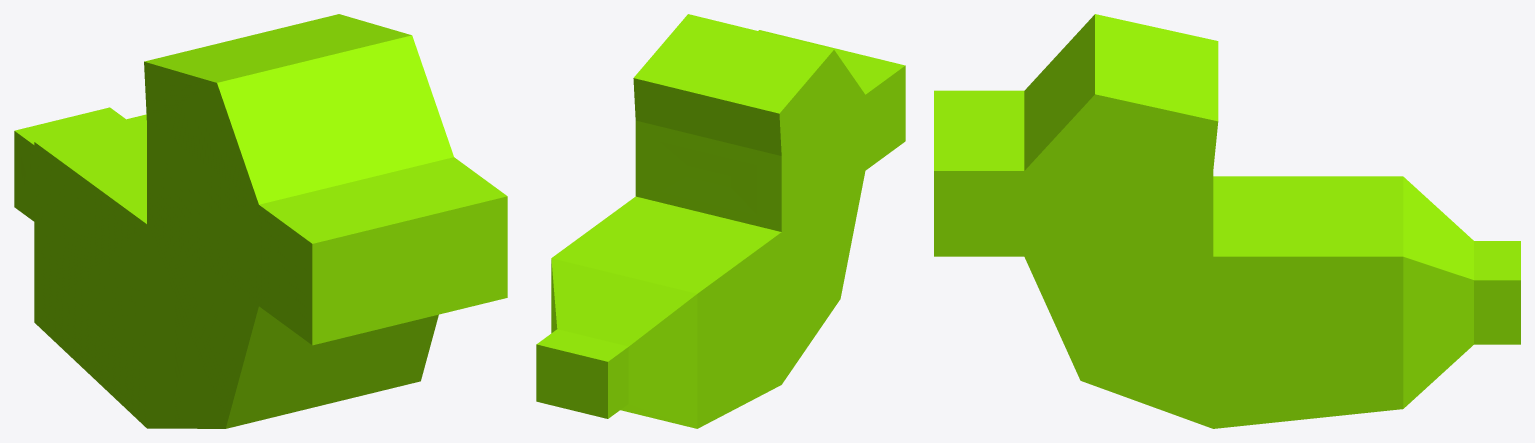
Rendered from torikariS.FBX.
3 renders of one model, left to right at view 1: azimuth 30°, elevation 25°; view 2: azimuth 150°, elevation 25°; view 3: azimuth 270°, elevation 25°, orthographic. The views are drawn at different scales.
Visible parts, largest first — view 1: Box001; view 2: Box001; view 3: Box001.
Boxes of the visible parts, x1,y1,x2,y2 form: Box001: (14, 14, 507, 428); Box001: (536, 14, 905, 428); Box001: (934, 14, 1520, 428).
Size of the model in its own units: 20 by 61.75 by 38.86.
Materials: 1 (1 with a texture image).
